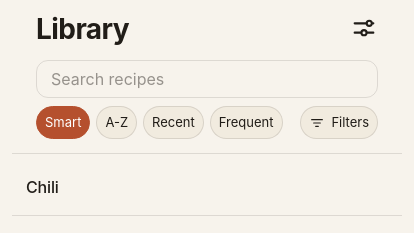
Test: search › restores the sorted/filtered list once the search query is cleared
Type "chick" into the field with test id "library-search-input". click: (207, 79)
box: left=36, top=60, right=378, bottom=98
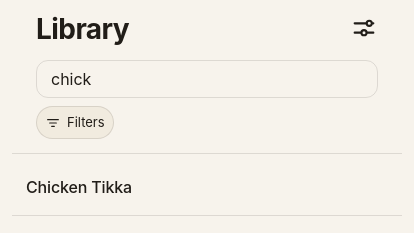
Check: the text "Chicken Tikka" is shown, box left=26, top=177, right=132, bottom=197
Clear the field with test id "library-search-input". click: (207, 79)
box: left=36, top=60, right=378, bottom=98
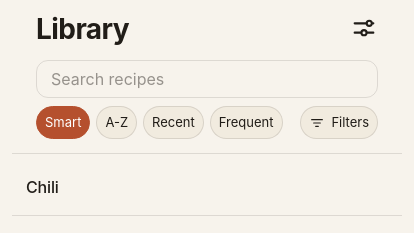
Check: the text "Chili" is shown, box left=26, top=177, right=59, bottom=197
